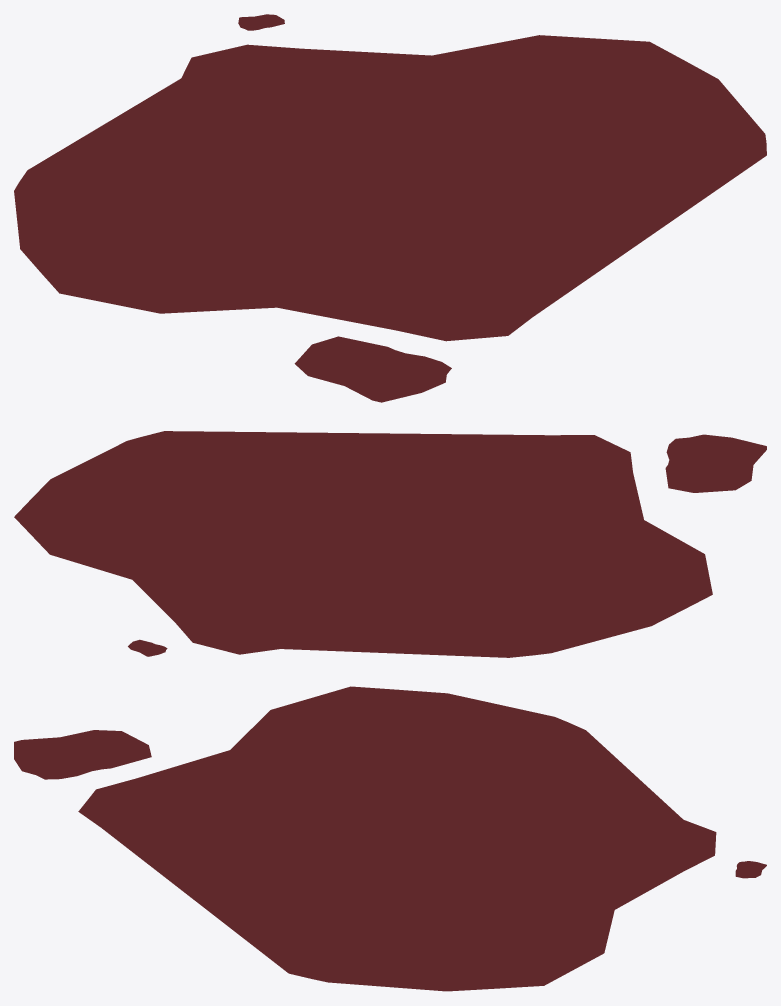
File: blood_splat.glb
3 views of the same model, one above another, from view 1: azimuth 30°, elevation 25°; view 2: azimuth 150°, elevation 25°; view 3: azimuth 270°, elevation 25° (orthographic). The views are drawn at different scales.
Bounding box in the file's own units: 3.41 × 0 × 3.56.
Materials: 1 (1 with a texture image).
